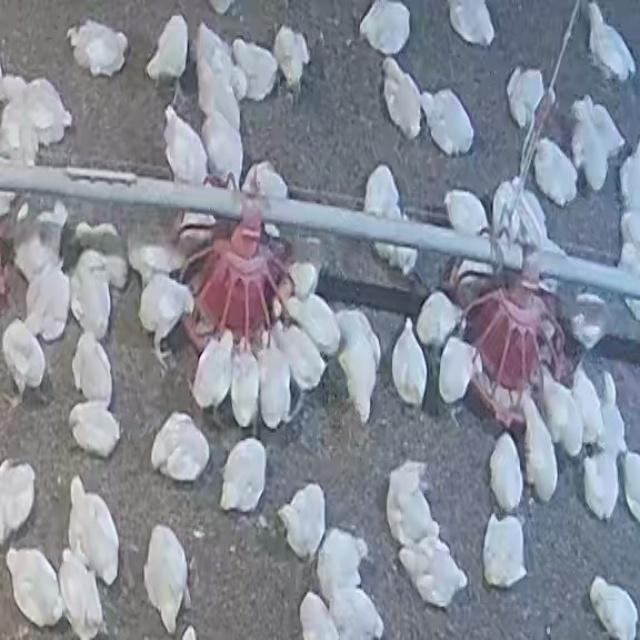chicken: (492, 178, 564, 266), (66, 477, 121, 587), (136, 272, 196, 368), (142, 524, 192, 636), (363, 167, 416, 272), (332, 311, 380, 425), (397, 534, 468, 609), (5, 546, 66, 632), (569, 96, 623, 190), (10, 198, 66, 286), (69, 248, 120, 341), (5, 74, 72, 143), (386, 460, 437, 550), (56, 549, 106, 640), (282, 280, 341, 354), (150, 411, 209, 483), (24, 258, 72, 344), (519, 393, 557, 501), (585, 1, 636, 81), (190, 328, 235, 418), (314, 528, 369, 601), (379, 56, 425, 142), (275, 317, 326, 393), (538, 366, 581, 456), (1, 319, 47, 403), (420, 88, 476, 157), (164, 106, 205, 200), (218, 437, 267, 513), (257, 328, 293, 431), (277, 484, 326, 559), (76, 217, 130, 284), (482, 514, 527, 590), (67, 400, 123, 461), (229, 331, 263, 431), (70, 331, 115, 406), (0, 458, 37, 549), (204, 105, 240, 198), (390, 318, 427, 408), (148, 13, 186, 99), (437, 334, 479, 411), (68, 23, 129, 76), (532, 139, 579, 207), (570, 364, 606, 452), (231, 38, 280, 102), (588, 577, 638, 639), (126, 233, 183, 287), (325, 588, 384, 640), (594, 370, 627, 459), (358, 0, 410, 56), (488, 431, 523, 514), (582, 448, 620, 521), (2, 107, 37, 184), (416, 290, 462, 348), (443, 188, 491, 243), (272, 26, 310, 94), (506, 68, 548, 128), (566, 294, 608, 351), (446, 1, 496, 47), (241, 160, 289, 204), (299, 592, 339, 639), (174, 209, 218, 251), (620, 453, 640, 530), (287, 260, 319, 299), (619, 211, 640, 266)
